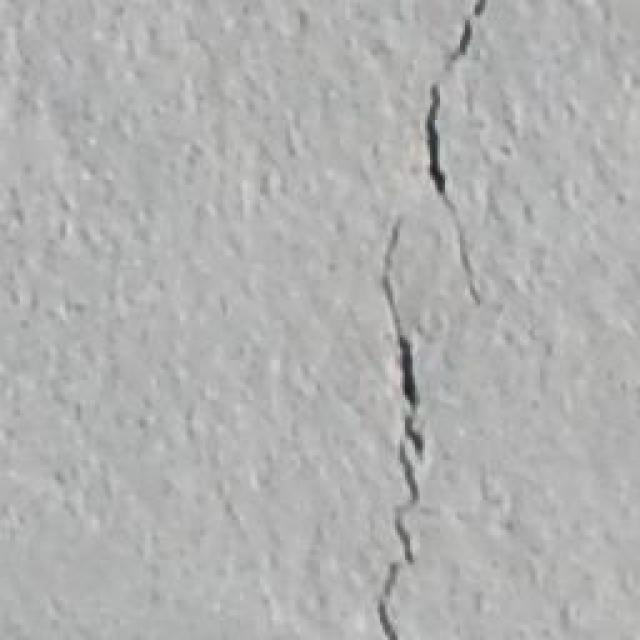concrete-crack: (368, 0, 491, 640)
